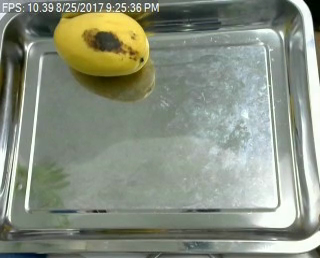Mango: (51, 10, 152, 74)
